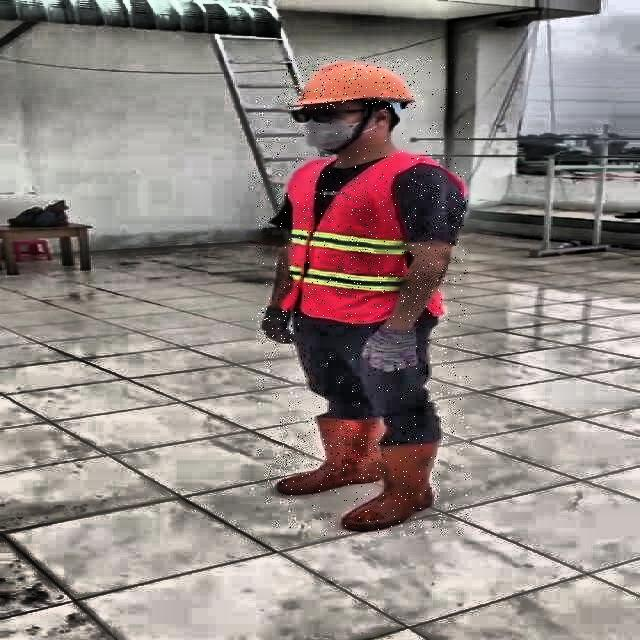safety_helmet: (284, 59, 420, 109)
safety_jacket: (277, 155, 466, 322)
